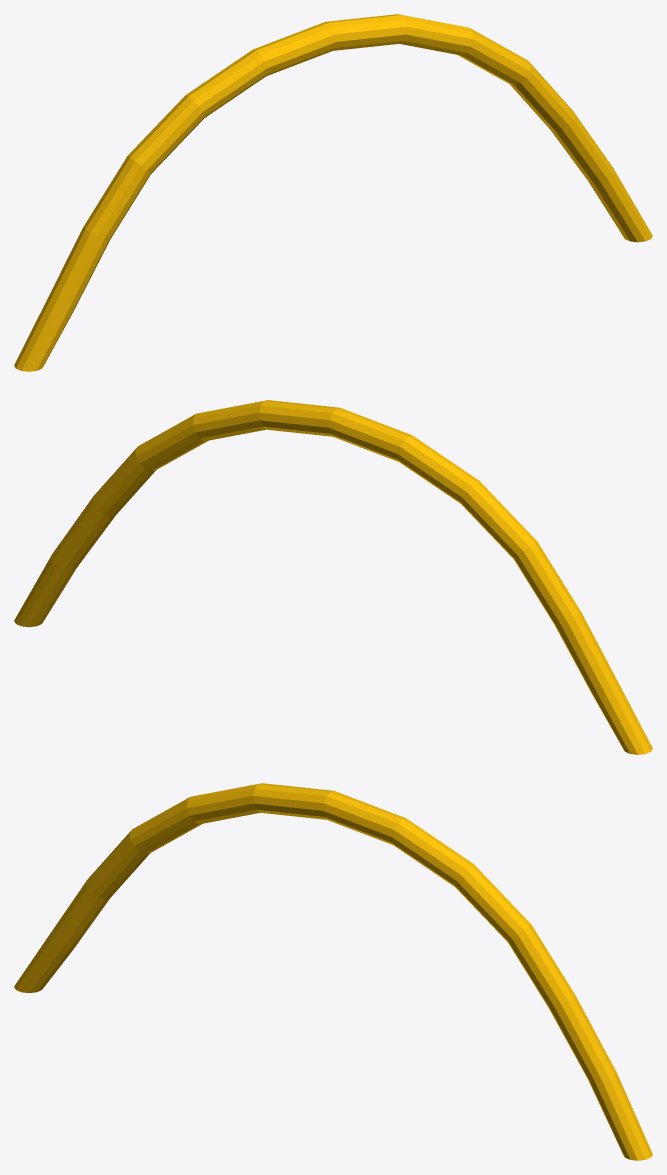
The model's file is shockwaveProjectile.fbx.
The picture shows the model from 3 angles, top to bottom: view 1: azimuth 30°, elevation 25°; view 2: azimuth 150°, elevation 25°; view 3: azimuth 330°, elevation 25°; orthographic projection.
Visible parts, largest first — view 1: Torus; view 2: Torus; view 3: Torus.
Boxes of the visible parts, x1,y1,x2,y2 form: Torus: (14, 14, 652, 371); Torus: (14, 400, 652, 754); Torus: (14, 783, 652, 1160).
Bounding box in the file's own units: 24416 × 10579 × 1104.
